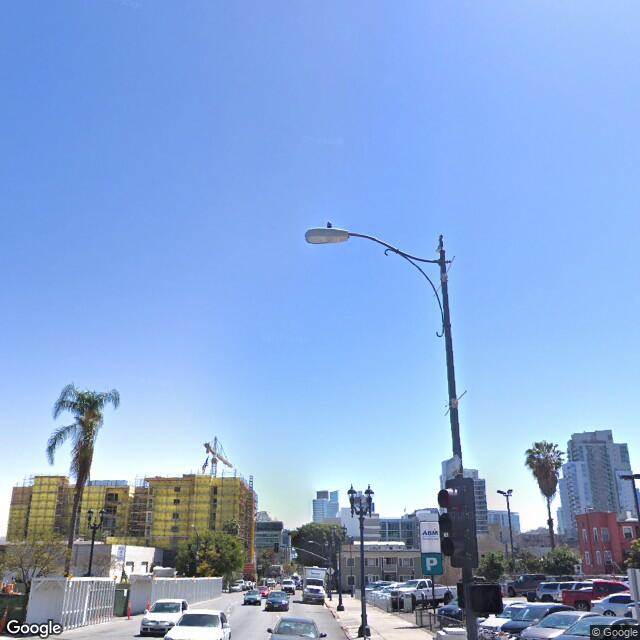light: (305, 224, 352, 245), (345, 486, 361, 507)
